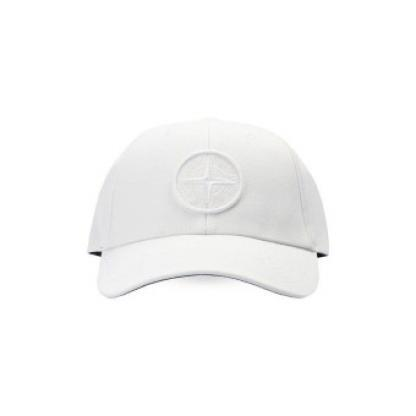cap: (77, 109, 339, 311)
